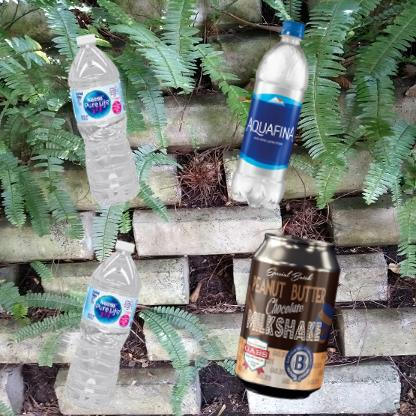botella: (10, 10, 202, 239), (10, 213, 214, 416), (213, 10, 353, 246)
lata: (213, 213, 372, 416)
